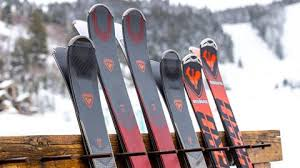skis: (87, 5, 181, 168), (183, 36, 254, 168), (53, 36, 117, 168), (152, 50, 204, 168)
